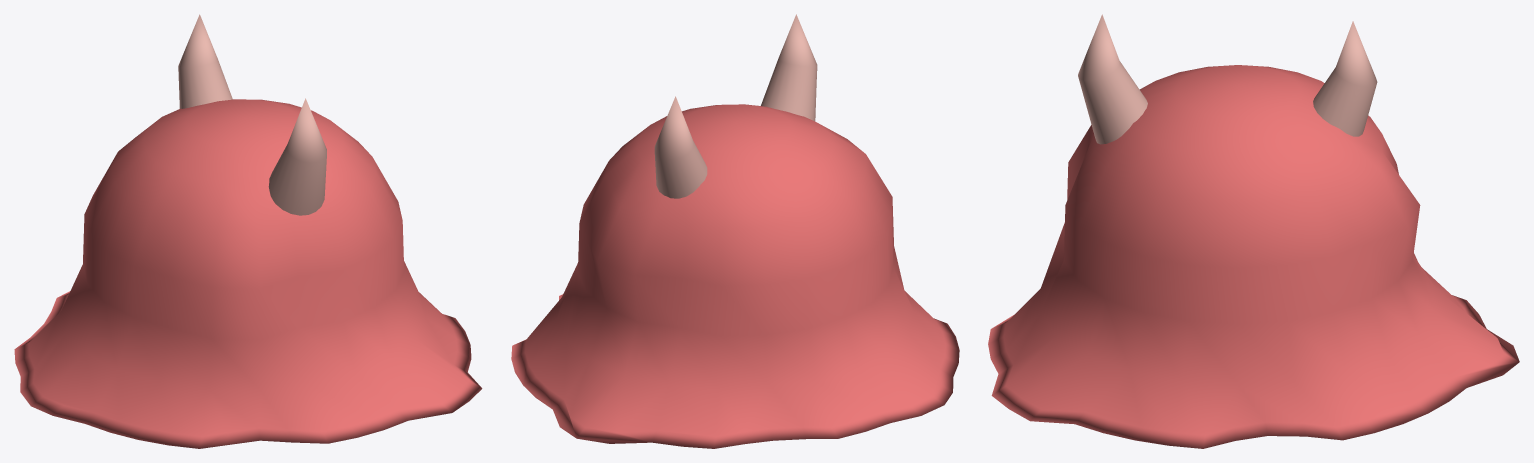
The model's file is monste_fire.fbx.
The picture shows the model from 3 angles, left to right: view 1: azimuth 30°, elevation 25°; view 2: azimuth 150°, elevation 25°; view 3: azimuth 270°, elevation 25°; orthographic projection. The views are drawn at different scales.
Visible parts, largest first — view 1: nurbsToPoly2; view 2: nurbsToPoly2; view 3: nurbsToPoly2.
Part boxes in pixels (<box>): nurbsToPoly2: <box>14,14,482,448</box>; nurbsToPoly2: <box>511,14,959,448</box>; nurbsToPoly2: <box>988,14,1519,448</box>.
Size of the model in its own units: 3.69 by 2.66 by 3.8.
